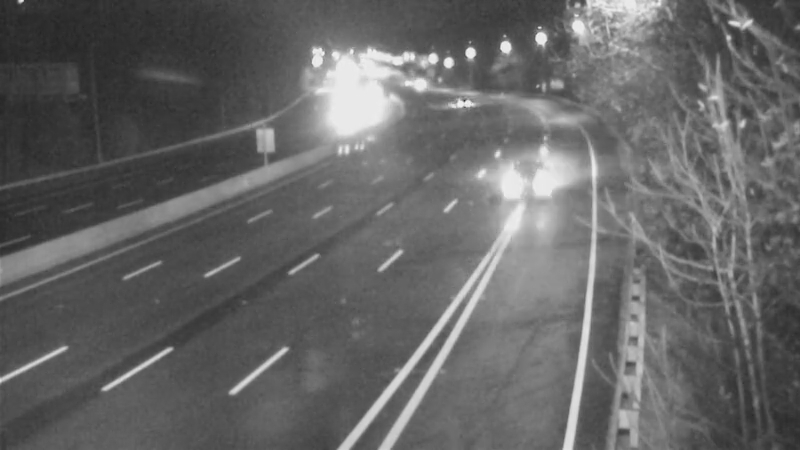vehicle: (497, 157, 577, 237), (440, 79, 490, 129)
